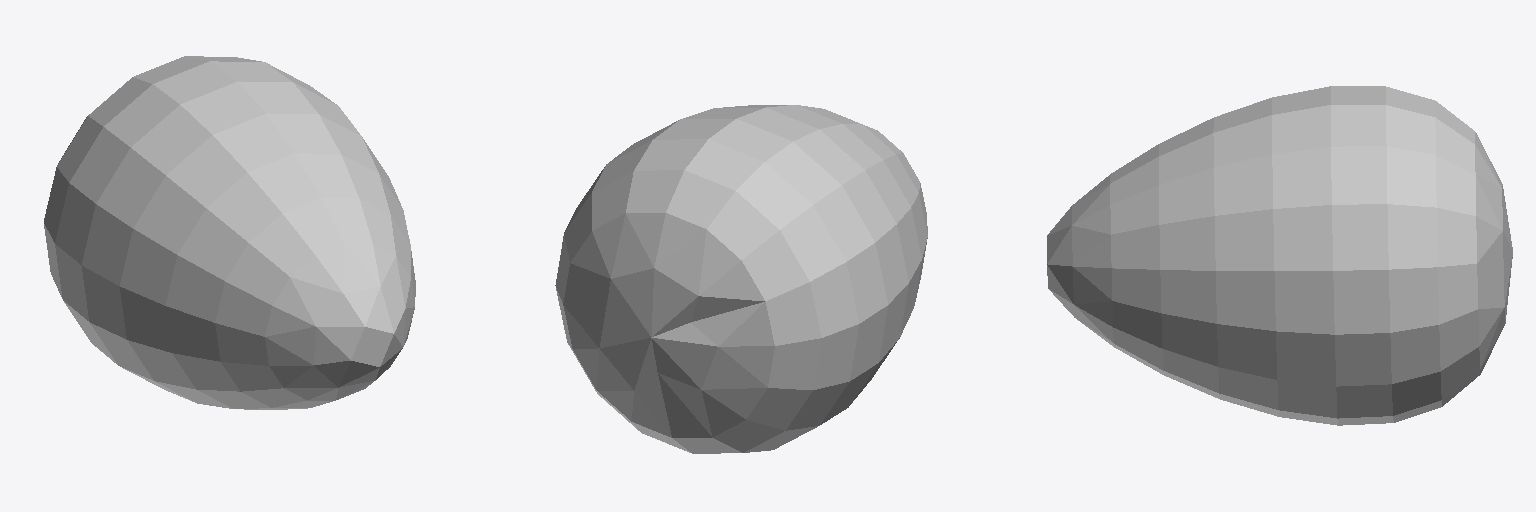
Rendered from spermato_tete.obj.
3 renders of one model, left to right at view 1: azimuth 30°, elevation 25°; view 2: azimuth 150°, elevation 25°; view 3: azimuth 270°, elevation 25°, orthographic.
Parts seen in each view (by area): view 1: BezierCurve; view 2: BezierCurve; view 3: BezierCurve.
Part boxes in pixels (x1,y1,x2,y2): BezierCurve: (44, 56, 415, 409); BezierCurve: (555, 105, 927, 453); BezierCurve: (1047, 86, 1512, 425).
Size of the model in its own units: 25.56 by 25.56 by 35.02.